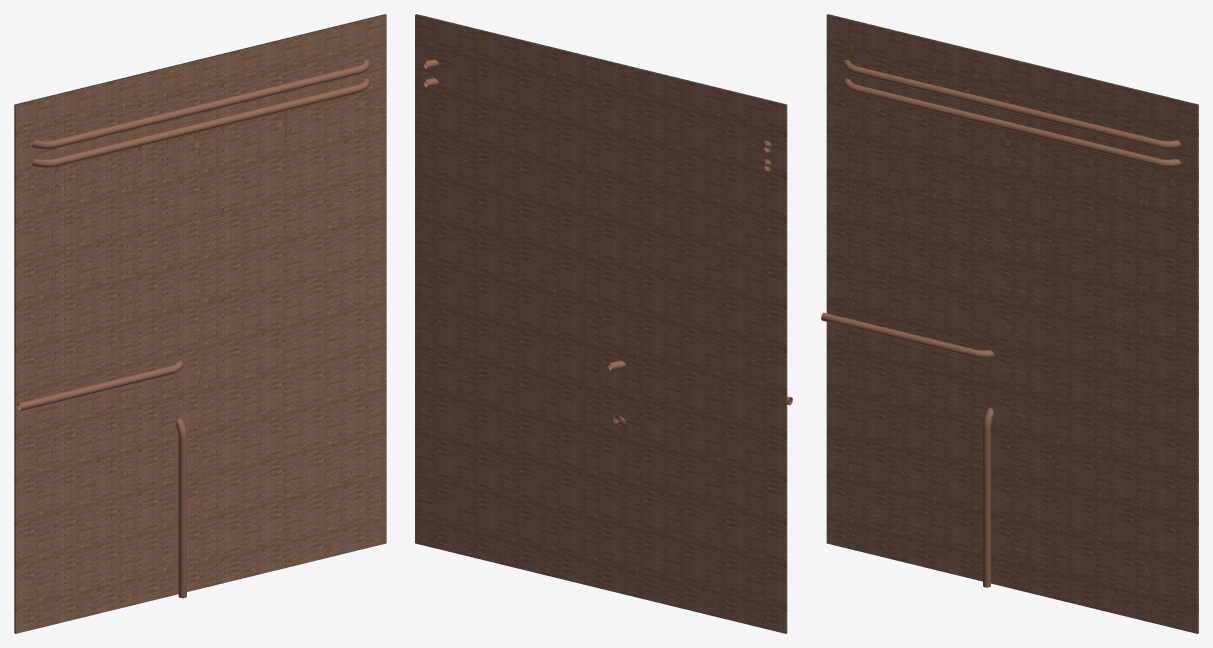
File: Tutorial_Model_Structure_BS1Wall_1.fbx
3 renders of one model, left to right at view 1: azimuth 30°, elevation 25°; view 2: azimuth 150°, elevation 25°; view 3: azimuth 330°, elevation 25°, orthographic.
Parts seen in each view (by area): view 1: Wall_1, Wall_1_Pipe_2, Wall_1_Pipe_1, Wall_1_Pipe_4, Wall_1_Pipe_3; view 2: Wall_1; view 3: Wall_1, Wall_1_Pipe_2, Wall_1_Pipe_1, Wall_1_Pipe_3, Wall_1_Pipe_4.
Part boxes in pixels (x1,y1,x2,y2): Wall_1: [14, 14, 386, 633]; Wall_1_Pipe_2: [32, 78, 369, 167]; Wall_1_Pipe_1: [32, 60, 369, 149]; Wall_1_Pipe_4: [176, 418, 186, 598]; Wall_1_Pipe_3: [17, 361, 182, 411]; Wall_1: [415, 14, 787, 633]; Wall_1: [826, 14, 1198, 633]; Wall_1_Pipe_2: [843, 78, 1180, 167]; Wall_1_Pipe_1: [843, 60, 1180, 149]; Wall_1_Pipe_3: [821, 312, 993, 358]; Wall_1_Pipe_4: [983, 408, 993, 587].
Bounding box in the file's own units: 709 × 965 × 47.6.
2 materials, 2 textured.
